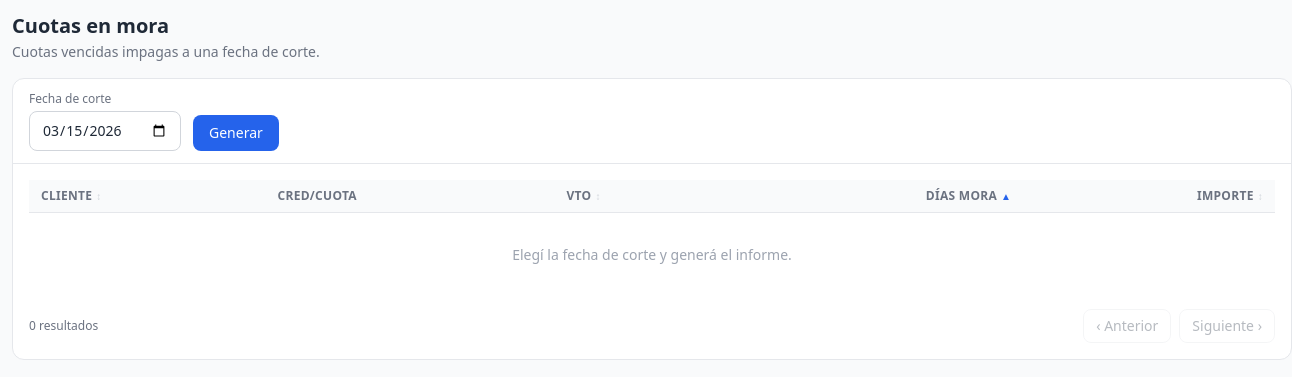
Test: Cuotas en mora › un corte sin mora muestra el vacío
Step 1. Click the button "Generar" → click(236, 133), box [193,115,279,151]
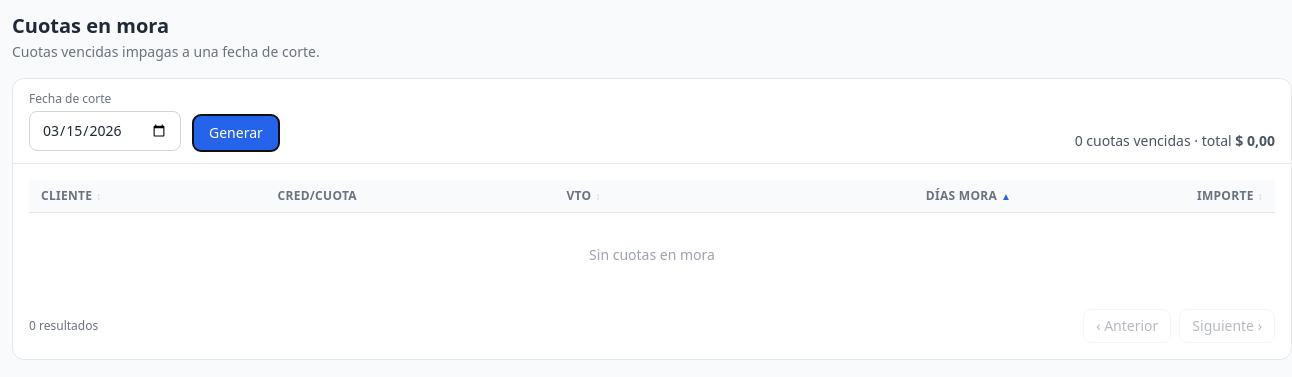
Check: the text "Sin cuotas en mora" is shown, box [29,212,1275,297]
